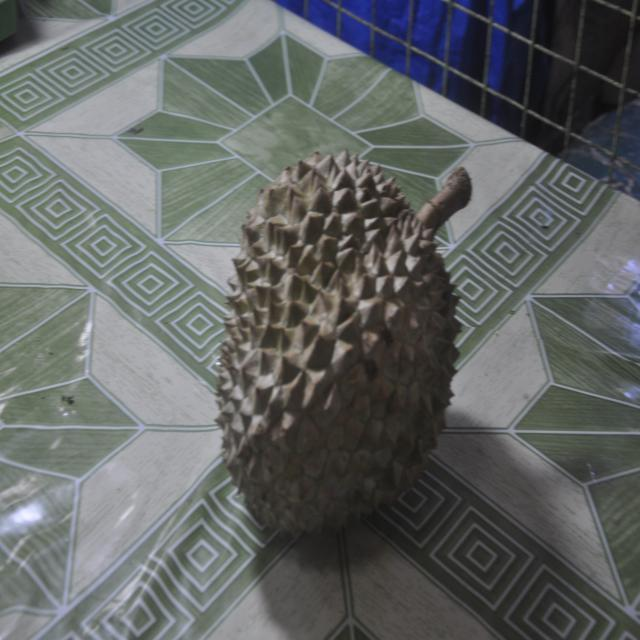mature: (218, 151, 471, 536)
